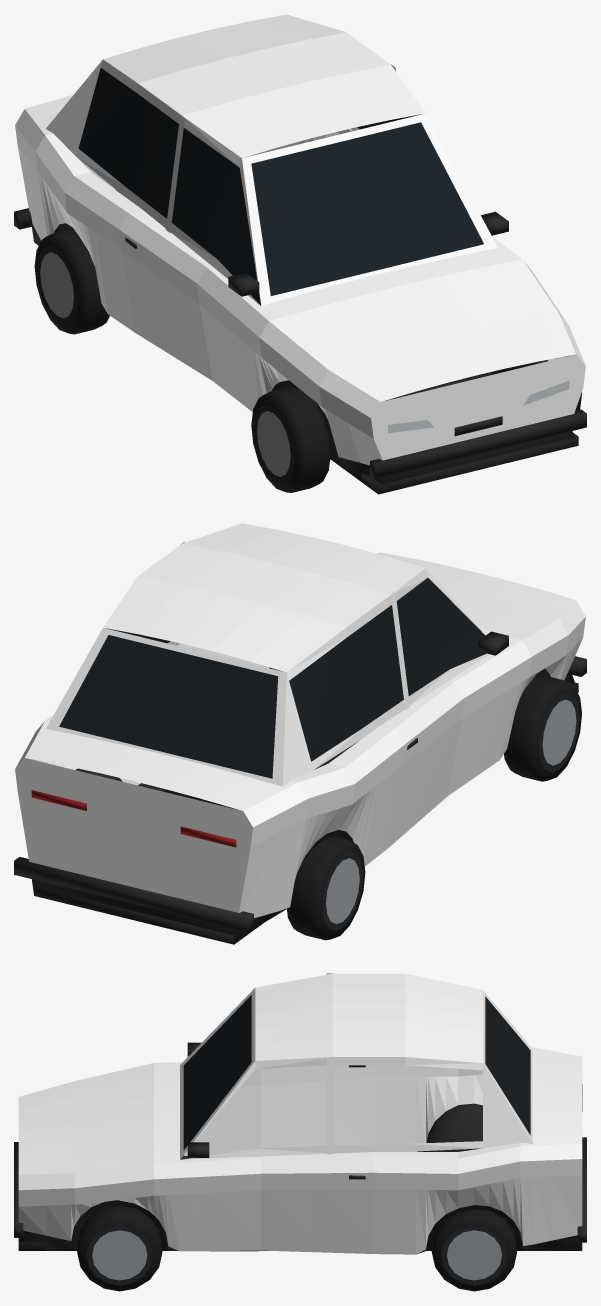
The model's file is hoshino_gomo.glb.
3 views of the same model, one above another, from view 1: azimuth 30°, elevation 25°; view 2: azimuth 150°, elevation 25°; view 3: azimuth 270°, elevation 25° (orthographic). The views are drawn at different scales.
Visible parts, largest first — view 1: Body_Paint, Body_Details, Mount_FrontLeft_Wheel_Details, Mount_RearLeft_Wheel_Details; view 2: Body_Paint, Body_Details, Mount_FrontLeft_Wheel_Details, Mount_RearLeft_Wheel_Details; view 3: Body_Paint, Body_Details, Mount_FrontRight_Wheel_Details, Mount_RearRight_Wheel_Details.
Part boxes in pixels (bbox=[...]): Body_Paint: bbox=[15, 14, 585, 465]; Body_Details: bbox=[14, 68, 586, 494]; Mount_FrontLeft_Wheel_Details: bbox=[251, 386, 330, 492]; Mount_RearLeft_Wheel_Details: bbox=[34, 229, 109, 334]; Body_Paint: bbox=[15, 523, 585, 918]; Body_Details: bbox=[14, 578, 586, 944]; Mount_FrontLeft_Wheel_Details: bbox=[504, 675, 581, 781]; Mount_RearLeft_Wheel_Details: bbox=[287, 836, 365, 940]; Body_Paint: bbox=[18, 973, 582, 1254]; Body_Details: bbox=[14, 995, 586, 1254]; Mount_FrontRight_Wheel_Details: bbox=[77, 1206, 162, 1291]; Mount_RearRight_Wheel_Details: bbox=[431, 1209, 516, 1291].
Bounding box in the file's own units: 1.64 × 1.48 × 3.42.
Materials: 2 (1 with a texture image).
